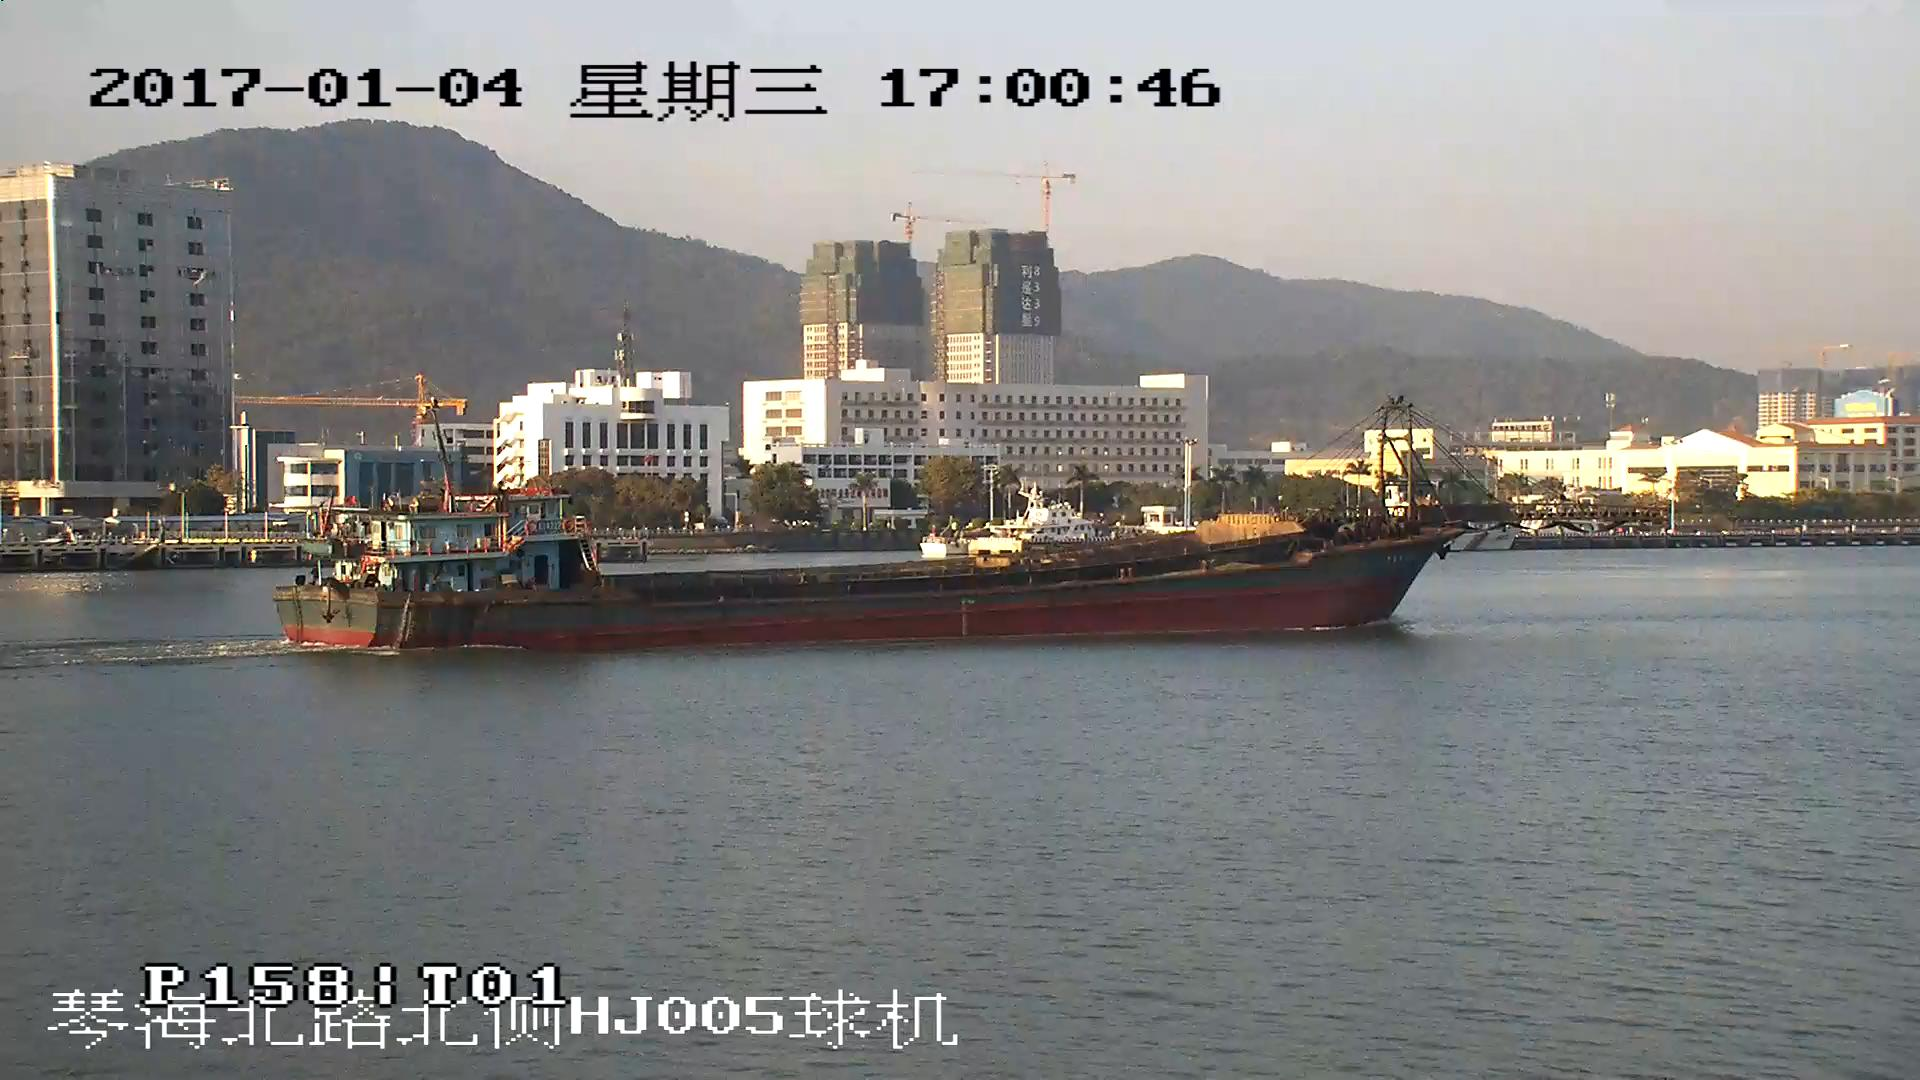bulk cargo carrier: (274, 402, 1624, 653)
